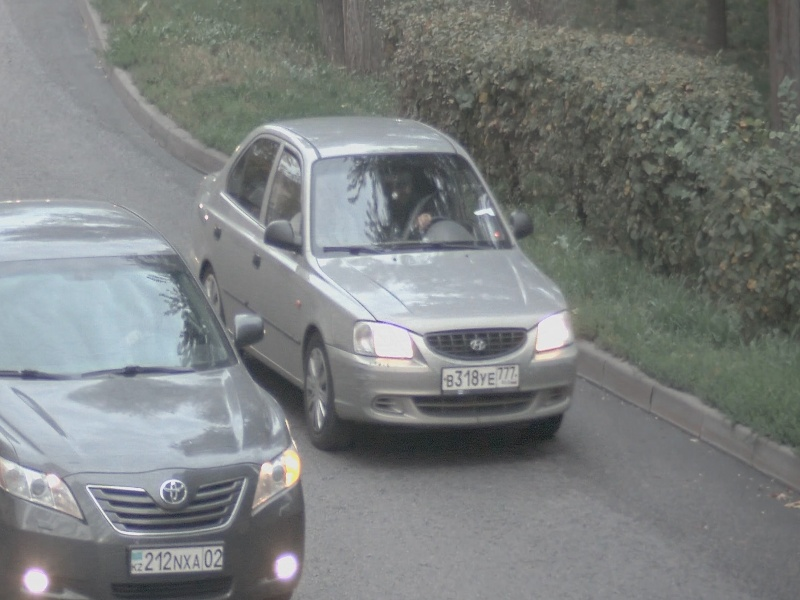plate: (128, 542, 224, 574), (441, 364, 519, 389)
